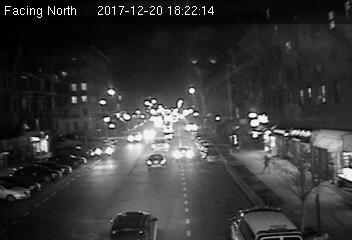car: (171, 146, 194, 161), (145, 153, 167, 168), (93, 143, 114, 157), (150, 138, 171, 152), (125, 130, 143, 143)
police: (222, 202, 310, 240)
